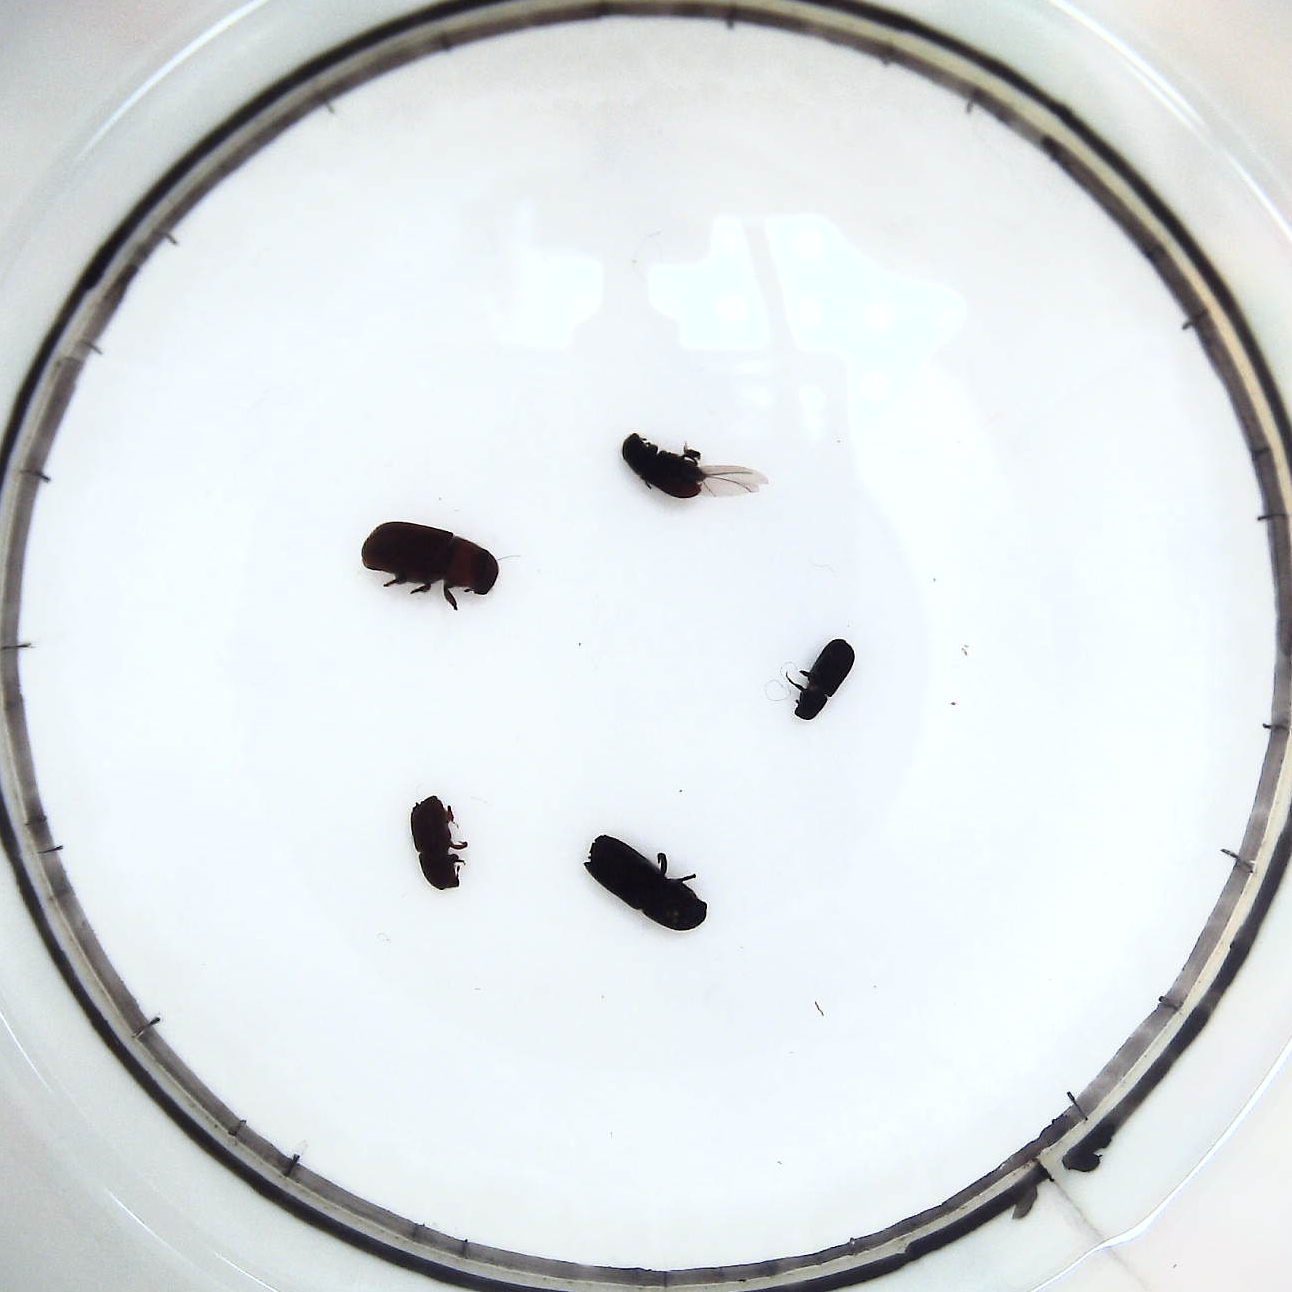Boerner: (579, 833, 706, 938)
Leconte: (354, 516, 500, 616)
armandi: (620, 429, 764, 506)
coleoptera: (793, 633, 854, 728)
linnaeus: (403, 794, 474, 896)
